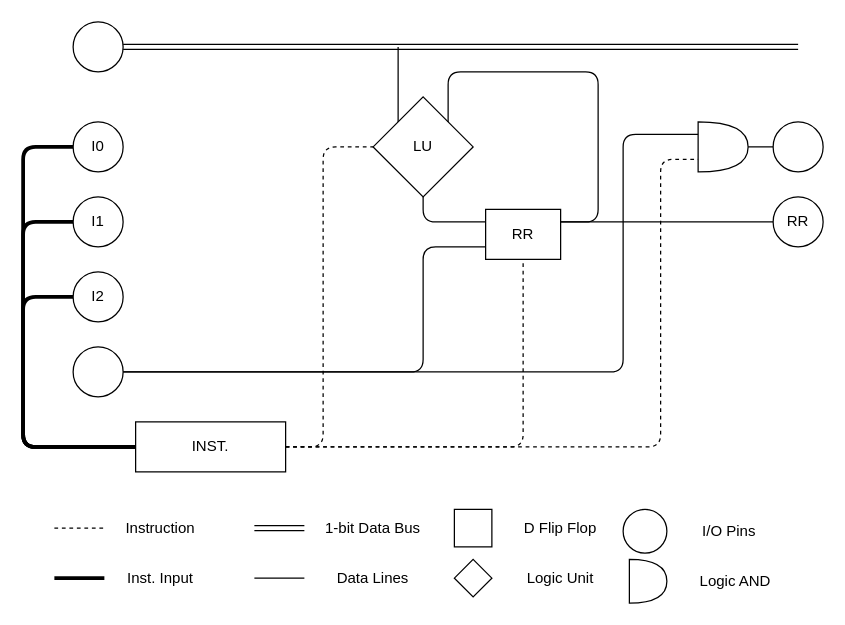
Image size: 845x625. Some labels were removed from this diagram. Each missing label, with the centre of its shape:
"CLK" goes at (x=97, y=371).
"DAT" goes at (x=97, y=46).
"WRT" goes at (x=797, y=146).
